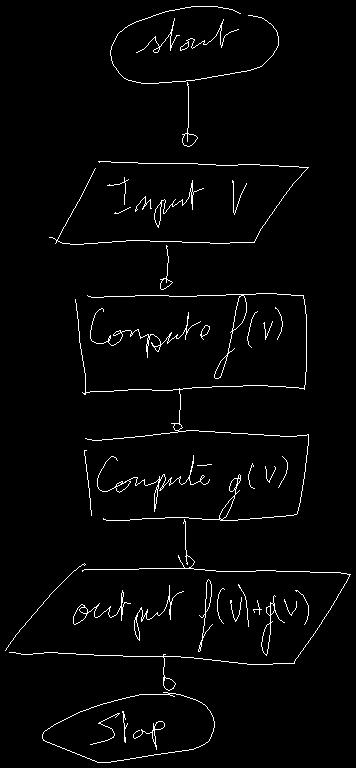arrow: (182, 82, 197, 146), (178, 519, 194, 568), (160, 245, 172, 289), (171, 388, 182, 430), (163, 654, 175, 690)
data: (5, 563, 350, 664), (49, 161, 308, 244)
process: (75, 293, 306, 394), (84, 430, 308, 520)
terminator: (110, 6, 278, 83), (42, 692, 214, 762)
text: (73, 579, 308, 655), (90, 295, 282, 378), (97, 455, 287, 519), (107, 177, 246, 227), (136, 18, 238, 52), (90, 711, 164, 749)
